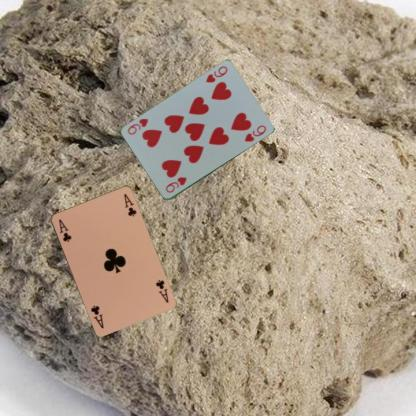9h: (203, 64, 229, 84), (163, 175, 188, 194)
Ac: (152, 277, 170, 304), (56, 217, 73, 243)
